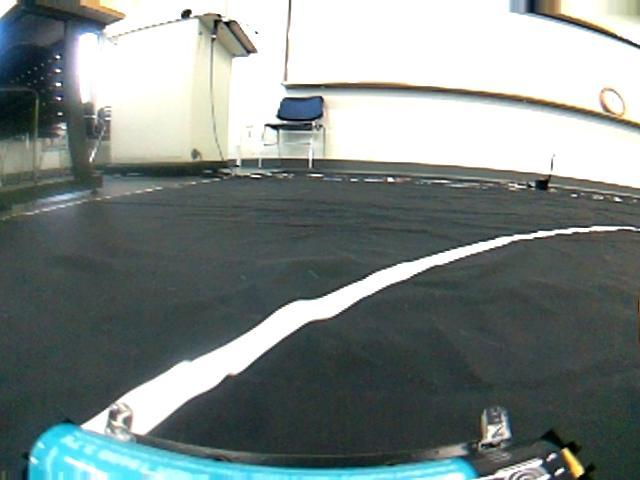right: (0, 205, 640, 480)
